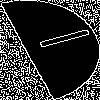I: (25, 25, 93, 55)
